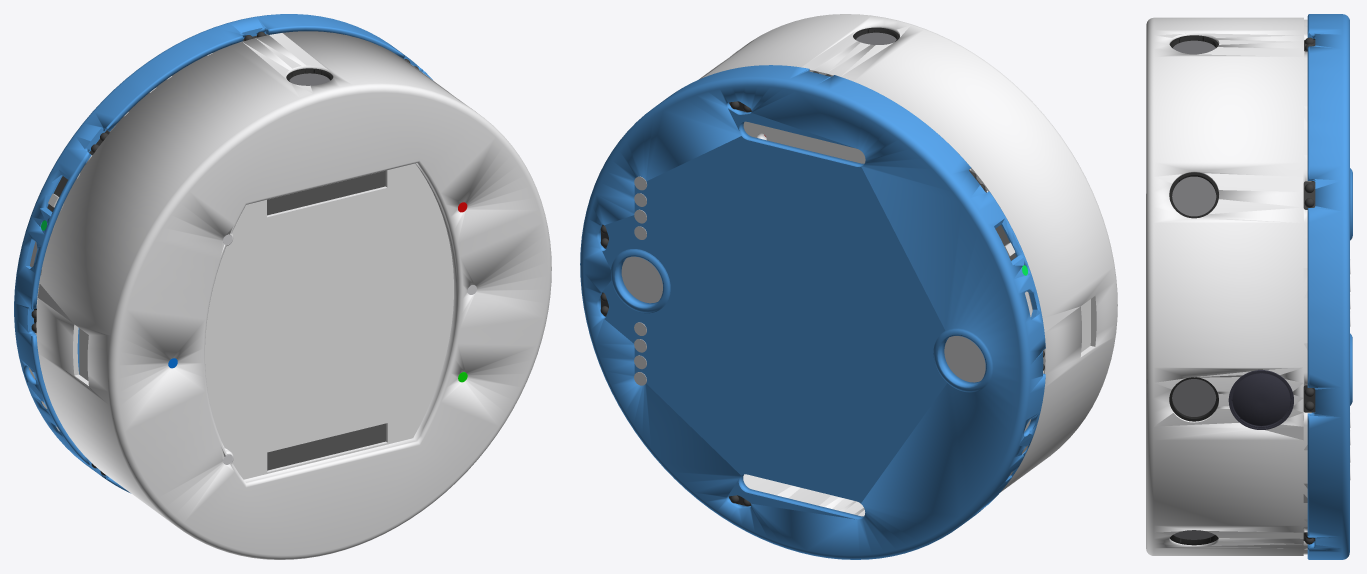
File: khepera4_chassis.dae
3 views of the same model, side by side, from view 1: azimuth 30°, elevation 25°; view 2: azimuth 150°, elevation 25°; view 3: azimuth 270°, elevation 25° (orthographic). The views are drawn at different scales.
Parts seen in each view (by area): view 1: Case, Base, KB-250_Extension_r, KB-250_Extension_l; view 2: Base, Case, Front_caster_support, Back_caster_support; view 3: Case, Base, Front_camera, Ultrasonic_sensor_front_left, Ultrasonic_sensor_front, Ultrasonic_sensor_hole_front_left, Ultrasonic_sensor_hole_front, Ultrasonic_sensor_left, IR_Sensor_front_l, IR_Sensor_front, Ultrasonic_sensor_front_right, Ultrasonic_sensor_left_hole (+1 smaller).
Boxes of the visible parts, bbox=[...] form: Case: bbox=[35, 31, 551, 559]; Base: bbox=[14, 14, 432, 493]; KB-250_Extension_r: bbox=[267, 423, 385, 470]; KB-250_Extension_l: bbox=[267, 170, 385, 215]; Base: bbox=[580, 65, 1045, 559]; Case: bbox=[699, 14, 1117, 516]; Front_caster_support: bbox=[621, 256, 662, 303]; Back_caster_support: bbox=[944, 336, 985, 382]; Case: bbox=[1146, 17, 1311, 555]; Base: bbox=[1307, 14, 1352, 559]; Front_camera: bbox=[1228, 370, 1293, 429]; Ultrasonic_sensor_front_left: bbox=[1172, 176, 1216, 216]; Ultrasonic_sensor_front: bbox=[1172, 379, 1216, 416]; Ultrasonic_sensor_hole_front_left: bbox=[1169, 172, 1218, 218]; Ultrasonic_sensor_hole_front: bbox=[1169, 377, 1218, 421]; Ultrasonic_sensor_left: bbox=[1173, 40, 1215, 54]; IR_Sensor_front_l: bbox=[1303, 181, 1315, 209]; IR_Sensor_front: bbox=[1303, 385, 1315, 412]; Ultrasonic_sensor_front_right: bbox=[1173, 530, 1214, 539]; Ultrasonic_sensor_left_hole: bbox=[1169, 35, 1218, 48].
Bounding box in the file's own units: 0.142 × 0.0538 × 0.142.
